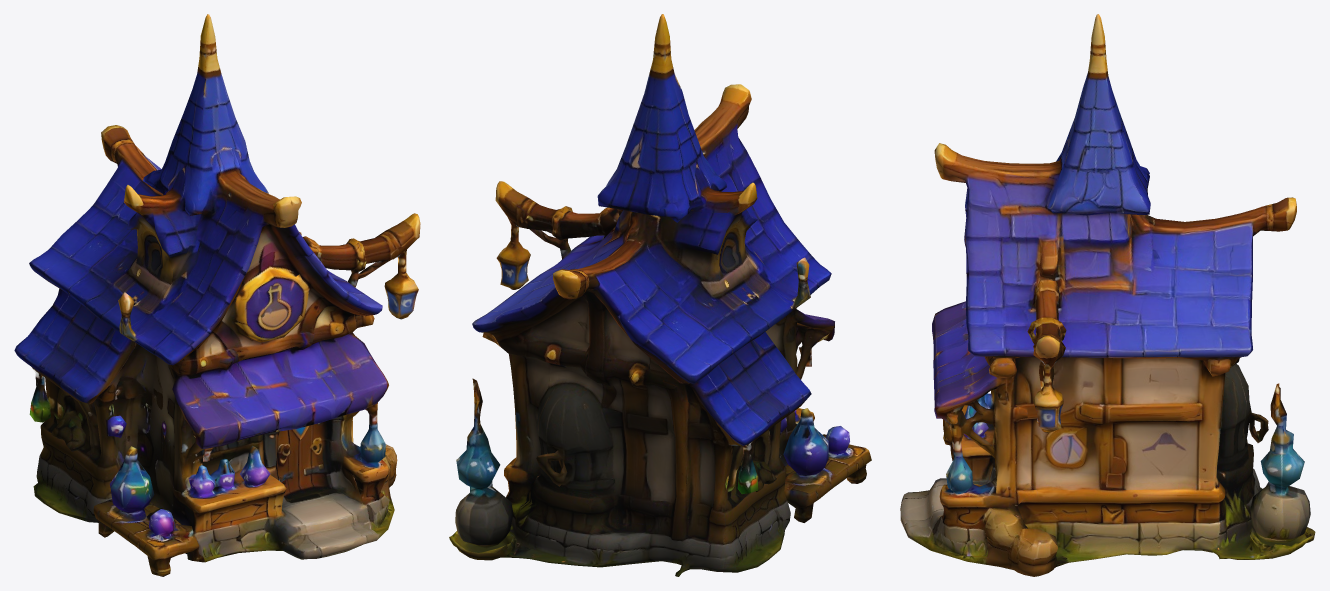
Rendered from alchemy-lab.glb.
The picture shows the model from 3 angles, left to right: view 1: azimuth 30°, elevation 25°; view 2: azimuth 150°, elevation 25°; view 3: azimuth 270°, elevation 25°; orthographic projection. The views are drawn at different scales.
Parts seen in each view (by area): view 1: Alchemy Lab; view 2: Alchemy Lab; view 3: Alchemy Lab.
Boxes of the visible parts, x1=… form: Alchemy Lab: x1=14, y1=14, x2=420, y2=576; Alchemy Lab: x1=449, y1=14, x2=871, y2=576; Alchemy Lab: x1=900, y1=14, x2=1315, y2=576.
Bounding box in the file's own units: 5.84 × 8.29 × 6.38.
Materials: 1 (1 with a texture image).
